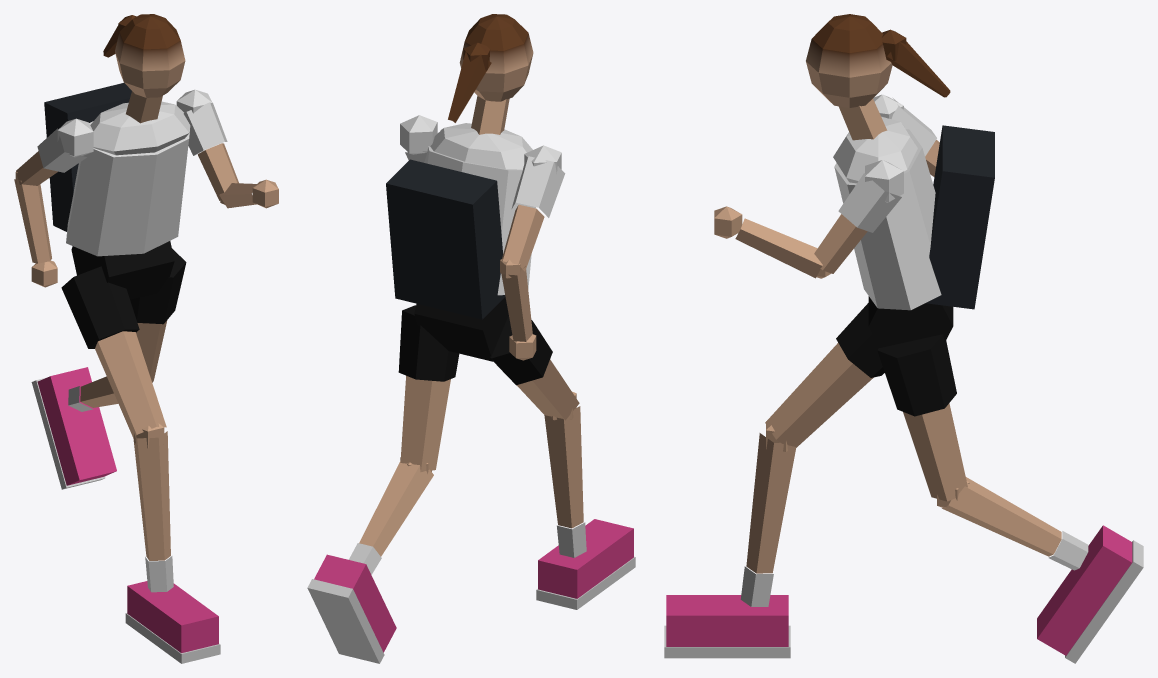
The model's file is corredor-b.glb.
3 views of the same model, side by side, from view 1: azimuth 30°, elevation 25°; view 2: azimuth 150°, elevation 25°; view 3: azimuth 270°, elevation 25° (orthographic). The views are drawn at different scales.
Visible parts, largest first — view 1: Corredor_B_MujerMediaAtletica_EXP; view 2: Corredor_B_MujerMediaAtletica_EXP; view 3: Corredor_B_MujerMediaAtletica_EXP.
Boxes of the visible parts, x1,y1,x2,y2 form: Corredor_B_MujerMediaAtletica_EXP: [14, 14, 278, 663]; Corredor_B_MujerMediaAtletica_EXP: [307, 14, 635, 663]; Corredor_B_MujerMediaAtletica_EXP: [664, 14, 1143, 663].
Bounding box in the file's own units: 0.4723 × 1.63 × 1.09.
